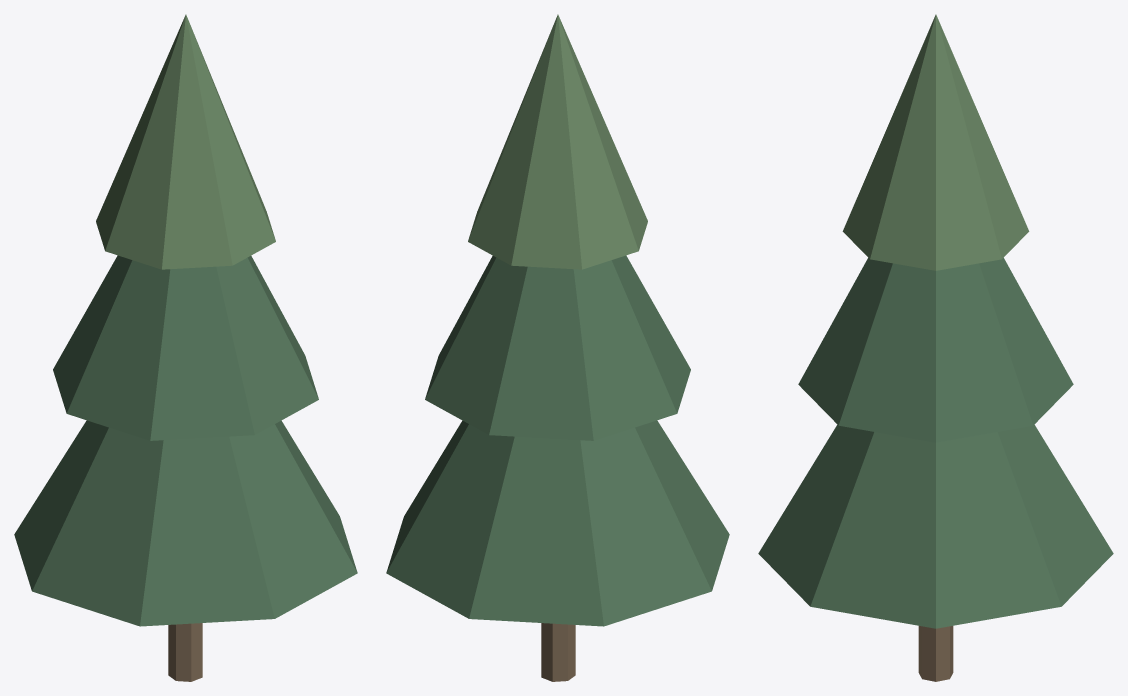
Rendered from pine.fbx.
3 renders of one model, left to right at view 1: azimuth 30°, elevation 25°; view 2: azimuth 150°, elevation 25°; view 3: azimuth 270°, elevation 25°, orthographic.
Parts seen in each view (by area): view 1: pine; view 2: pine; view 3: pine.
Boxes of the visible parts, <box> form: pine: <box>14,14,357,681</box>; pine: <box>386,14,729,681</box>; pine: <box>758,14,1113,681</box>.
Bounding box in the file's own units: 400 × 820 × 400.
